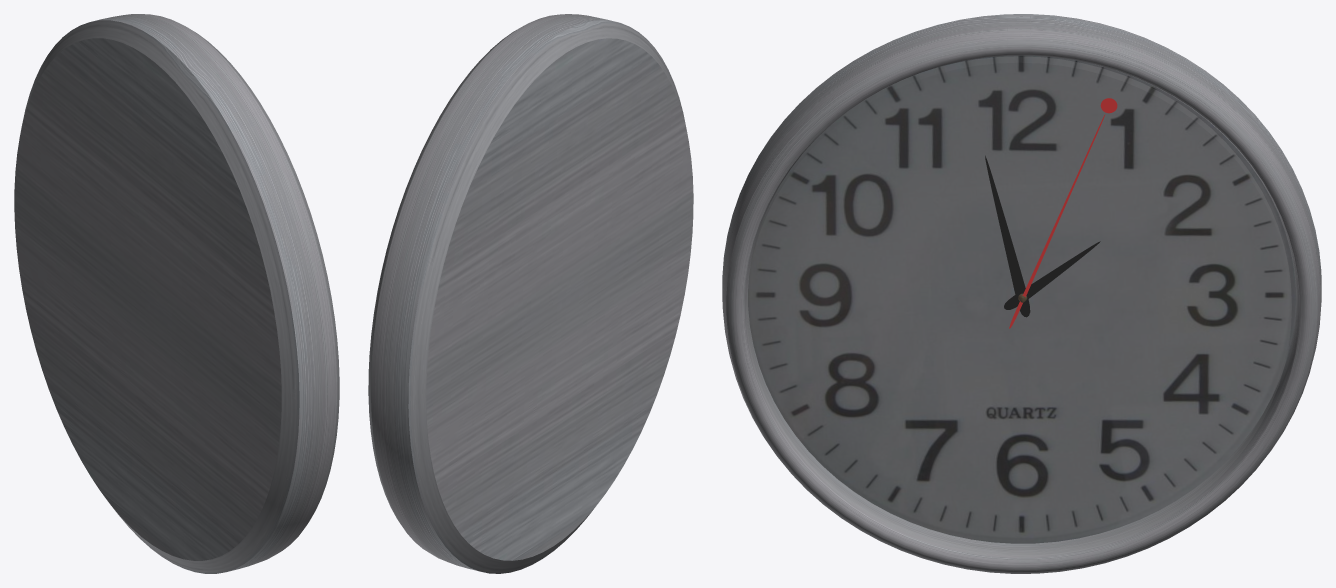
Rendered from bge_clock.glb.
3 renders of one model, left to right at view 1: azimuth 30°, elevation 25°; view 2: azimuth 150°, elevation 25°; view 3: azimuth 270°, elevation 25°, orthographic. The views are drawn at different scales.
Parts seen in each view (by area): view 1: Circle.016; view 2: Circle.016; view 3: Circle.016, Circle.000.
Part boxes in pixels (box(x1,y1,x2,y2)): Circle.016: box(14, 14, 339, 573); Circle.016: box(368, 14, 693, 573); Circle.016: box(722, 14, 1321, 573); Circle.000: box(747, 57, 1291, 556).
Size of the model in its own units: 0.1038 by 0.8896 by 0.8896.
Materials: 5 (3 with a texture image).
